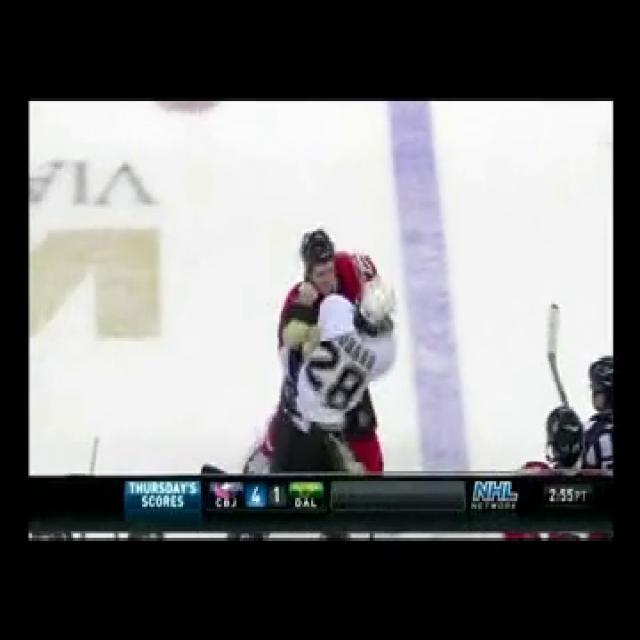non-violence: (509, 399, 612, 543), (579, 356, 615, 470)
violence: (245, 228, 396, 473)
